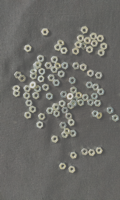nut: (81, 26, 89, 34), (42, 28, 50, 36), (24, 45, 32, 53), (97, 35, 105, 43), (98, 49, 106, 57), (51, 56, 59, 64), (37, 55, 45, 63), (18, 75, 26, 83), (42, 84, 50, 92), (34, 85, 42, 93), (46, 93, 54, 101), (70, 100, 78, 108), (38, 113, 46, 121), (68, 119, 76, 127), (51, 136, 59, 144), (96, 147, 104, 155), (90, 33, 98, 40), (84, 37, 92, 44), (77, 35, 85, 42), (91, 40, 99, 47), (87, 46, 94, 54), (61, 47, 69, 54), (96, 72, 103, 80), (73, 62, 80, 70), (62, 62, 69, 70), (35, 61, 42, 69), (45, 62, 53, 69), (54, 63, 62, 70), (14, 72, 22, 79), (48, 75, 56, 82), (69, 77, 76, 85), (86, 82, 94, 89), (24, 86, 32, 93), (13, 85, 21, 92), (23, 93, 31, 100), (33, 92, 40, 100), (30, 106, 37, 114), (24, 112, 32, 119), (60, 91, 68, 98), (91, 93, 99, 100), (107, 107, 114, 115), (82, 94, 90, 101), (76, 92, 83, 100), (78, 99, 85, 107), (53, 104, 60, 112), (64, 128, 71, 136), (70, 130, 77, 138), (89, 149, 96, 157), (82, 148, 89, 156), (71, 152, 78, 160), (69, 166, 76, 174), (59, 163, 67, 170), (101, 43, 108, 50), (80, 43, 87, 50), (73, 48, 80, 55), (58, 40, 65, 47), (55, 44, 62, 51), (88, 70, 95, 77), (33, 63, 40, 70), (51, 66, 58, 73), (39, 68, 46, 75), (38, 76, 45, 83), (58, 71, 65, 78), (53, 80, 60, 87), (93, 84, 100, 91), (98, 89, 105, 96), (30, 82, 37, 89), (26, 100, 33, 107), (71, 87, 78, 94), (113, 115, 120, 122), (95, 100, 102, 107), (88, 99, 95, 106), (96, 112, 103, 119), (92, 111, 99, 118), (67, 93, 74, 100), (68, 103, 75, 110), (59, 101, 66, 108), (62, 107, 69, 114), (47, 108, 54, 115), (37, 122, 44, 129), (66, 113, 73, 120), (60, 122, 67, 129), (62, 132, 69, 139), (81, 64, 87, 72), (30, 69, 38, 75), (30, 74, 38, 80), (13, 91, 21, 97), (75, 42, 82, 48), (72, 97, 78, 104), (54, 111, 60, 118), (52, 104, 59, 109)
